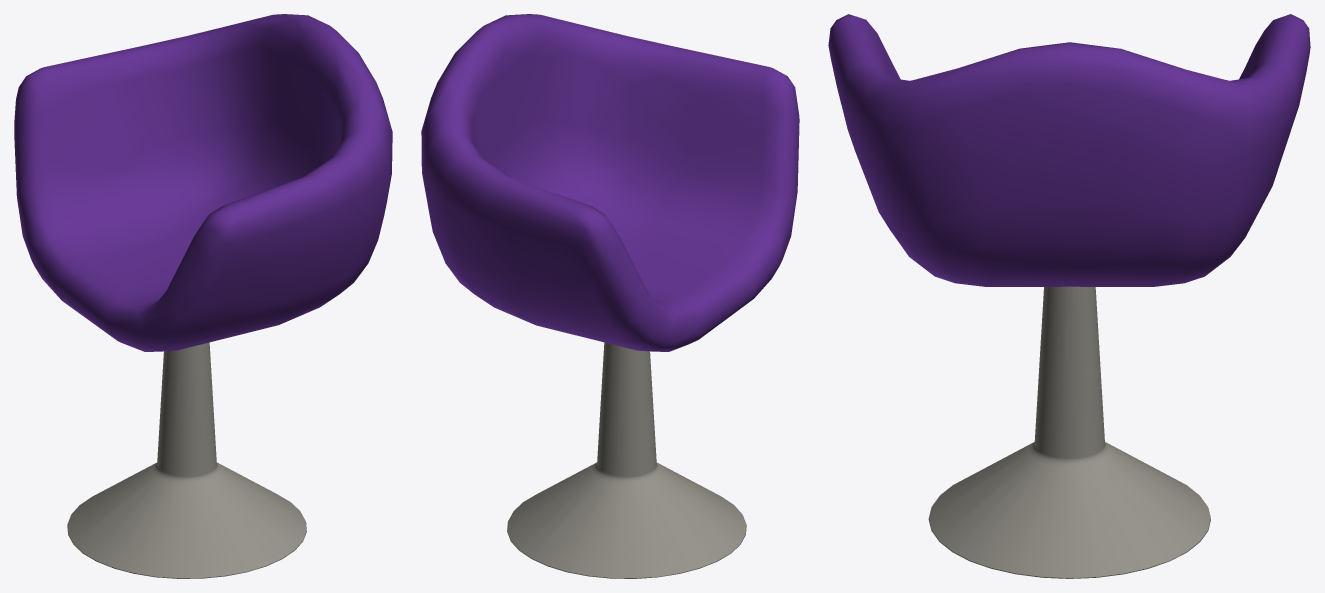
The model's file is chair_09_purple.fbx.
3 renders of one model, left to right at view 1: azimuth 30°, elevation 25°; view 2: azimuth 150°, elevation 25°; view 3: azimuth 270°, elevation 25°, orthographic. The views are drawn at different scales.
Parts seen in each view (by area): view 1: chair_09_purple; view 2: chair_09_purple; view 3: chair_09_purple.
Part boxes in pixels (left/top/right/bottom): chair_09_purple: left=14, top=14, right=392, bottom=578; chair_09_purple: left=421, top=14, right=799, bottom=578; chair_09_purple: left=828, top=14, right=1310, bottom=578.
Size of the model in its own units: 53.94 by 92.73 by 73.24.
Materials: 2 (2 with a texture image).
